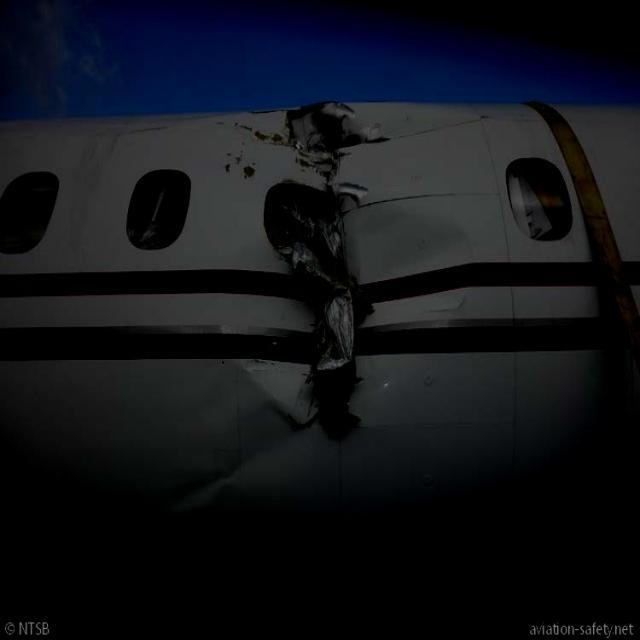crack: (265, 98, 388, 452)
dent: (357, 203, 475, 356), (197, 404, 317, 511)
